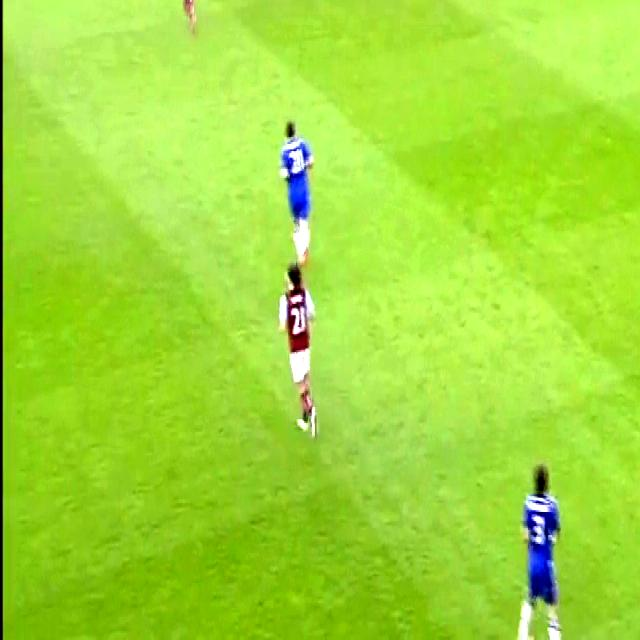soccer-player: (514, 444, 571, 640), (278, 257, 327, 448), (276, 107, 322, 296), (163, 0, 206, 37)
